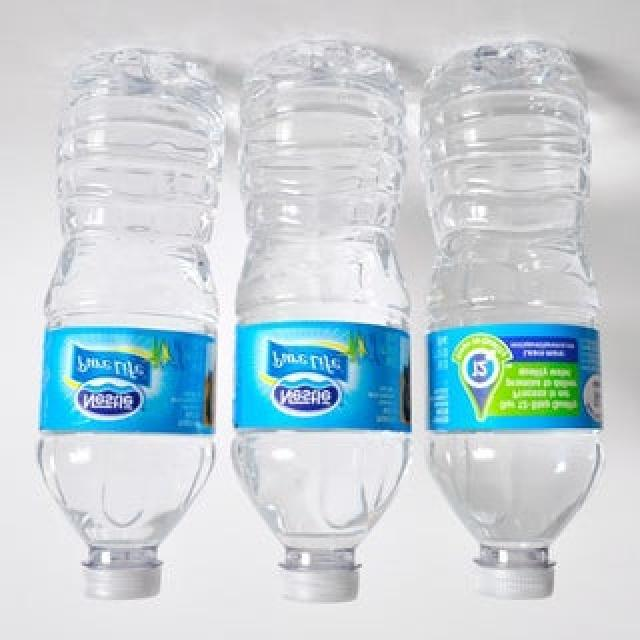cap: (472, 557, 560, 602), (80, 560, 162, 603), (278, 565, 358, 609)
label: (422, 327, 610, 435), (41, 325, 216, 435), (232, 325, 410, 430)
not-crumbled: (28, 49, 232, 611), (422, 37, 616, 610), (235, 39, 416, 615)
